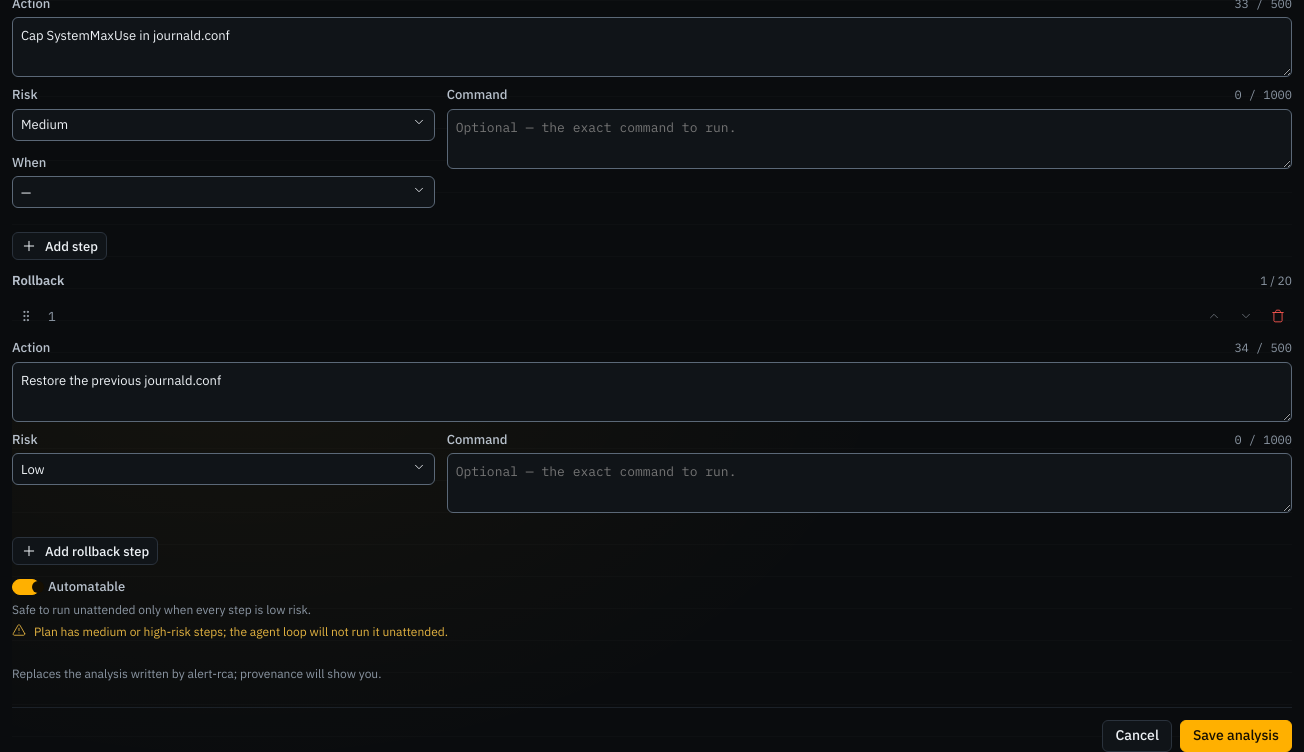
Test case: AnalysisEditor › lands a server 422's per-field messages on those fields
This screenshot has width=1304, height=752.
(page scrolled)
Click the button "Save analysis".
click(1236, 736)  # box x1=1180 y1=720 x2=1292 y2=751
(page scrolled)
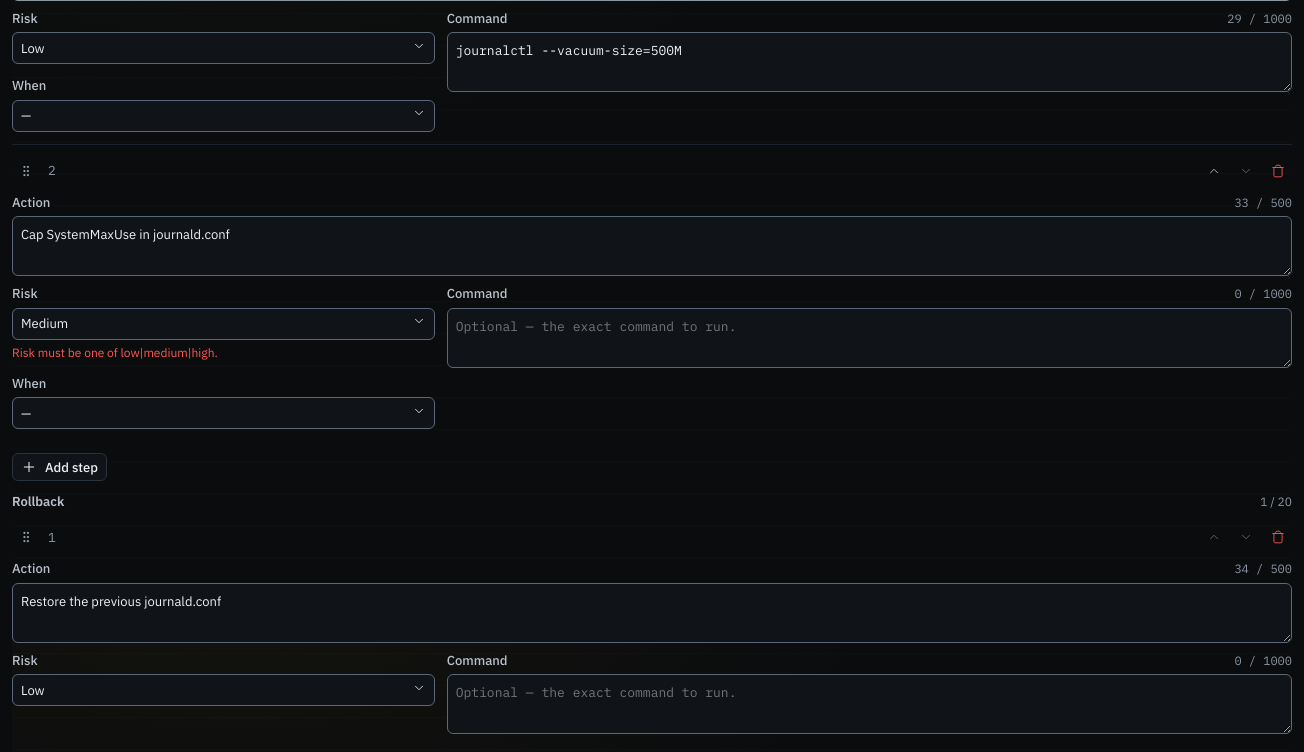
Now the text "Risk must be one of low|medium|high." is shown, box x1=12 y1=345 x2=218 y2=360
